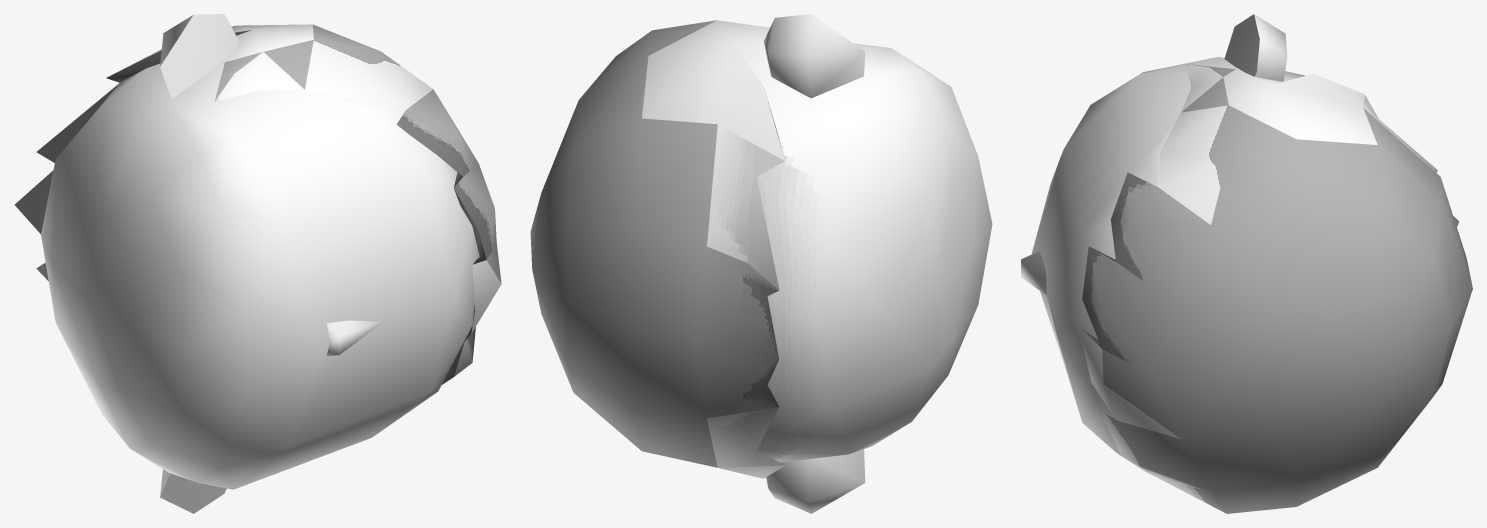
The model's file is girl13a.dae.
3 renders of one model, left to right at view 1: azimuth 30°, elevation 25°; view 2: azimuth 150°, elevation 25°; view 3: azimuth 270°, elevation 25°, orthographic. The views are drawn at different scales.
Parts seen in each view (by area): view 1: girl13a; view 2: girl13a; view 3: girl13a.
Boxes of the visible parts, bbox=[...] form: girl13a: bbox=[14, 14, 501, 513]; girl13a: bbox=[530, 14, 992, 513]; girl13a: bbox=[1021, 14, 1472, 513].
Size of the model in its own units: 21.05 by 26.71 by 22.57.
Materials: 3 (1 with a texture image).
